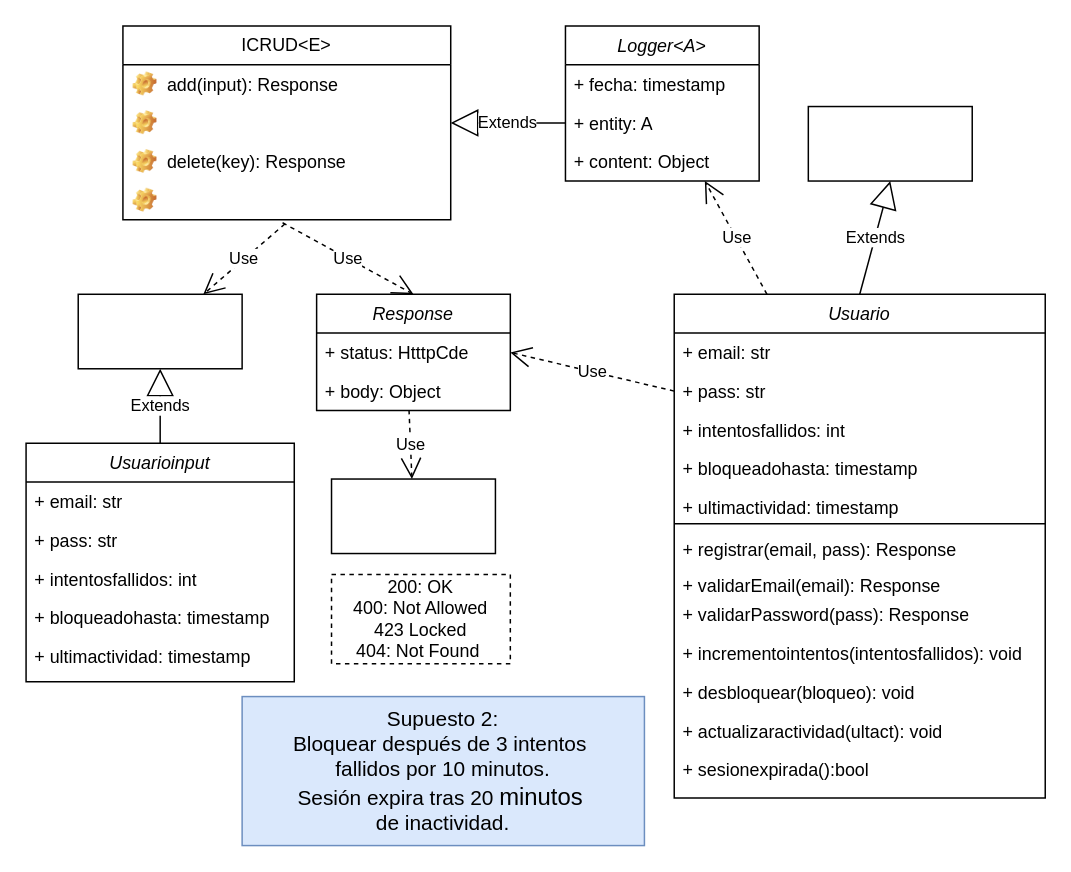
This 1071x872 diagram has some shape labels left out. Each missing label, with the centre of its shape:
"HttpCode" goes at point 412,516.
"query(key): Response" goes at point 286,199.
"update(key, input): Response" goes at point 286,122.
"«interface» ICRUD" goes at point 889,143.
"«interface» input" goes at point 159,331.
